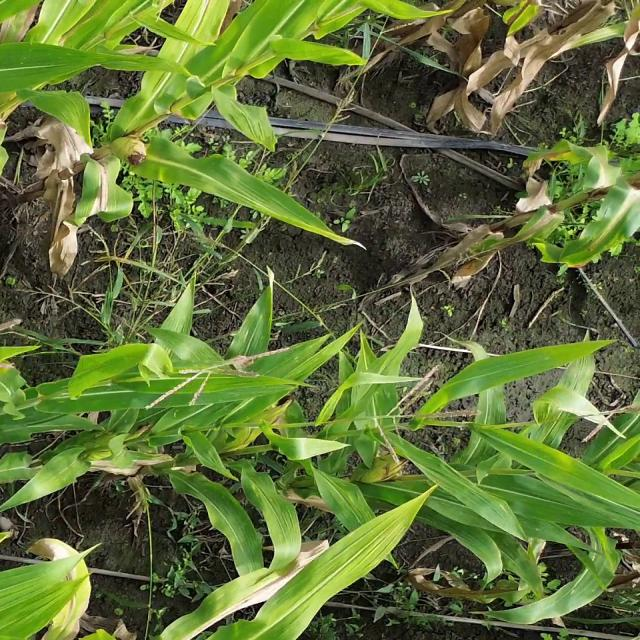gray-leaf-spot: (178, 342, 232, 391)
northern-leaf-blight: (563, 395, 629, 446), (98, 162, 126, 226)
southern-leaf-blight: (36, 442, 94, 508), (192, 478, 252, 535), (102, 353, 158, 409), (11, 46, 90, 76)
